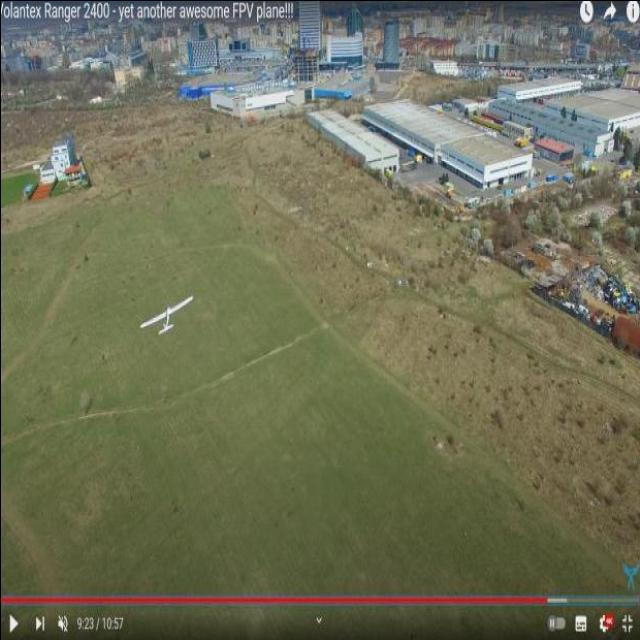plane: (136, 292, 193, 334)
